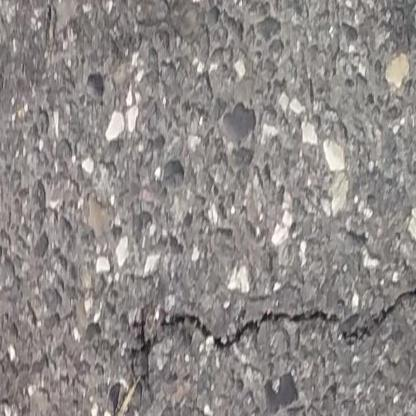Cracks: (91, 270, 416, 416)
